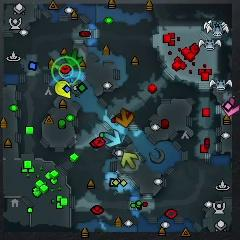p4: (56, 81, 71, 99)
x1: (222, 97, 240, 117)
x2: (121, 153, 138, 168)
x3: (104, 129, 121, 147)
x4: (65, 49, 82, 68)
x5: (115, 108, 133, 128)
